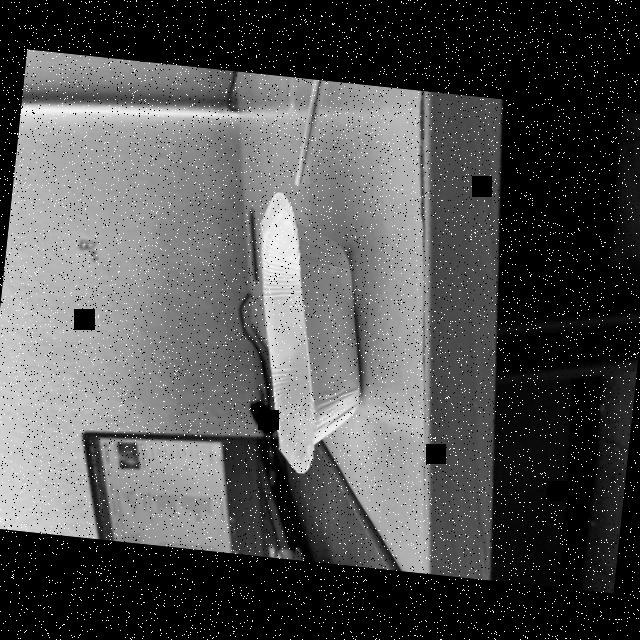cardboard_bowl: (231, 184, 386, 480)
stick: (289, 77, 330, 191)
